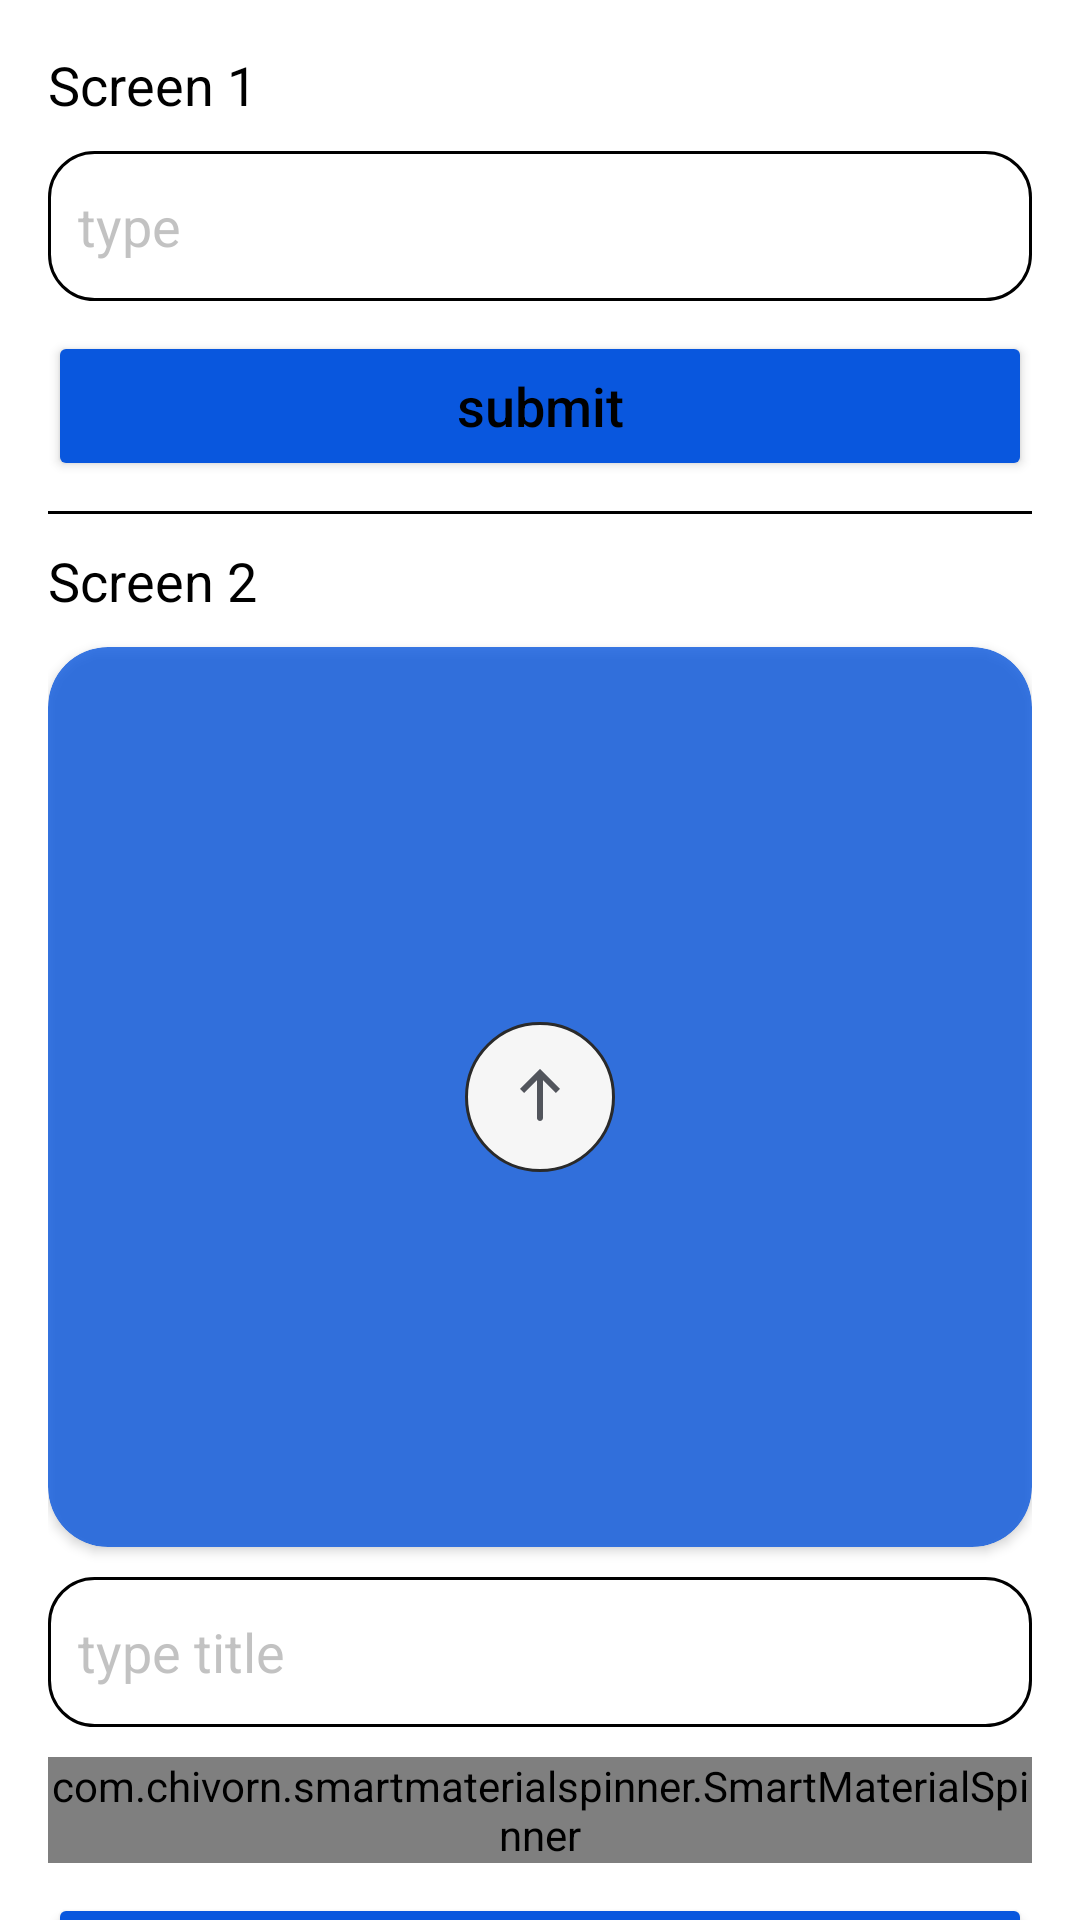

Screen size 1080 × 1920. Icon name, then its box in pixels as (x1, y1, x2, y2):
upload: (465, 1022, 615, 1172)
